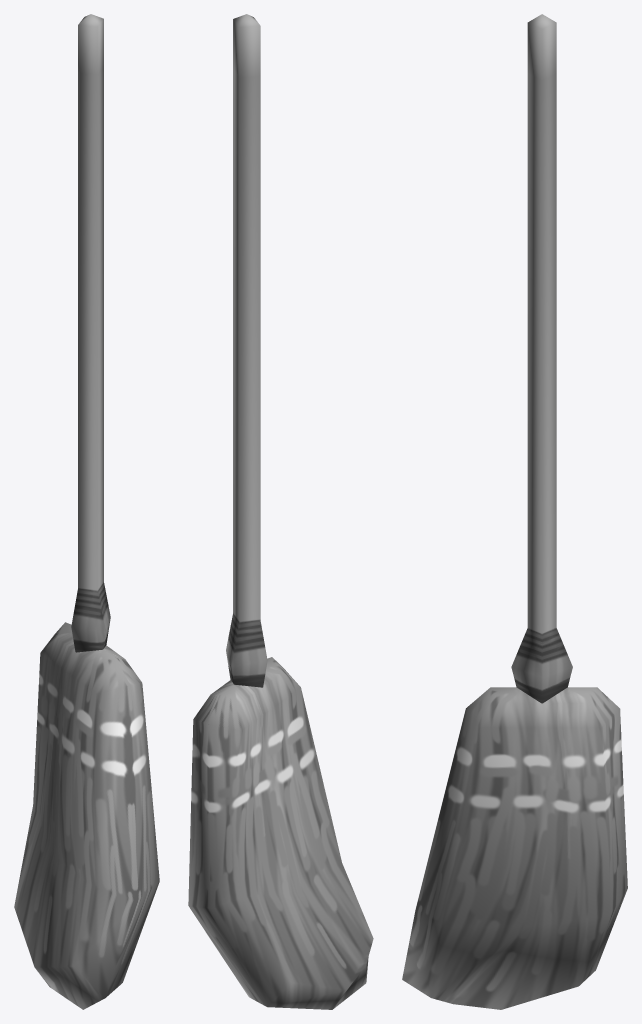
The model's file is obj_Broom.fbx.
3 renders of one model, left to right at view 1: azimuth 30°, elevation 25°; view 2: azimuth 150°, elevation 25°; view 3: azimuth 270°, elevation 25°, orthographic. The views are drawn at different scales.
Parts seen in each view (by area): view 1: obj_Broom; view 2: obj_Broom; view 3: obj_Broom.
Boxes of the visible parts, x1,y1,x2,y2 form: obj_Broom: [14, 14, 159, 1009]; obj_Broom: [188, 14, 373, 1009]; obj_Broom: [402, 14, 627, 1009].
Bounding box in the file's own units: 0.1664 × 1.51 × 0.3042.
1 material, 1 textured.
